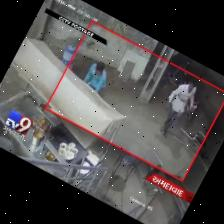person: (161, 82, 196, 137), (84, 62, 106, 93)
